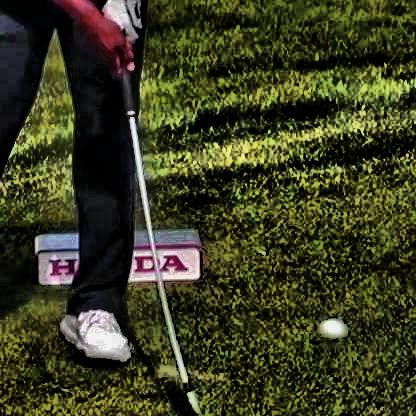golfball: (315, 314, 347, 338)
